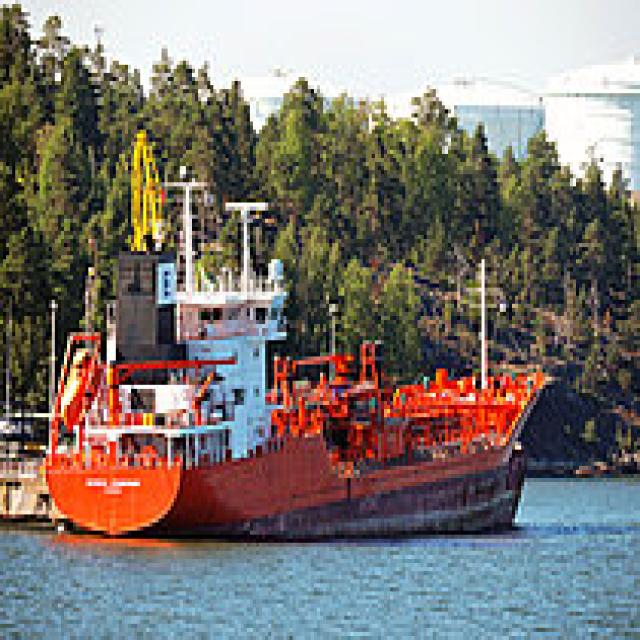Tanker: (40, 227, 558, 539)
